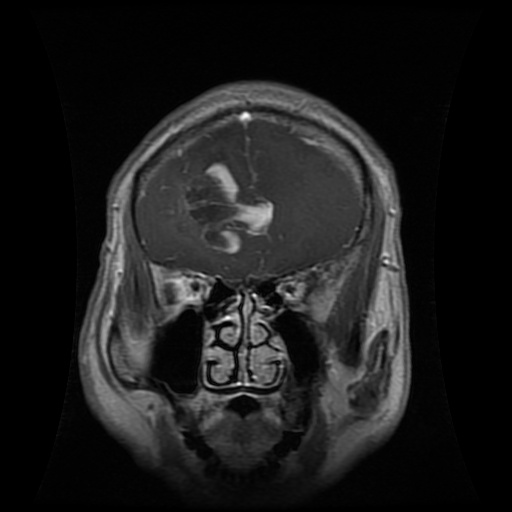glioma: (180, 153, 276, 251)
